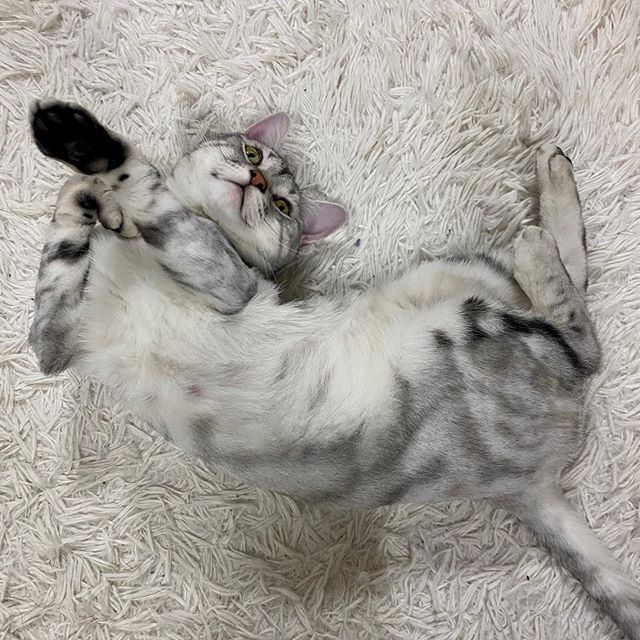cat: (180, 107, 352, 271)
